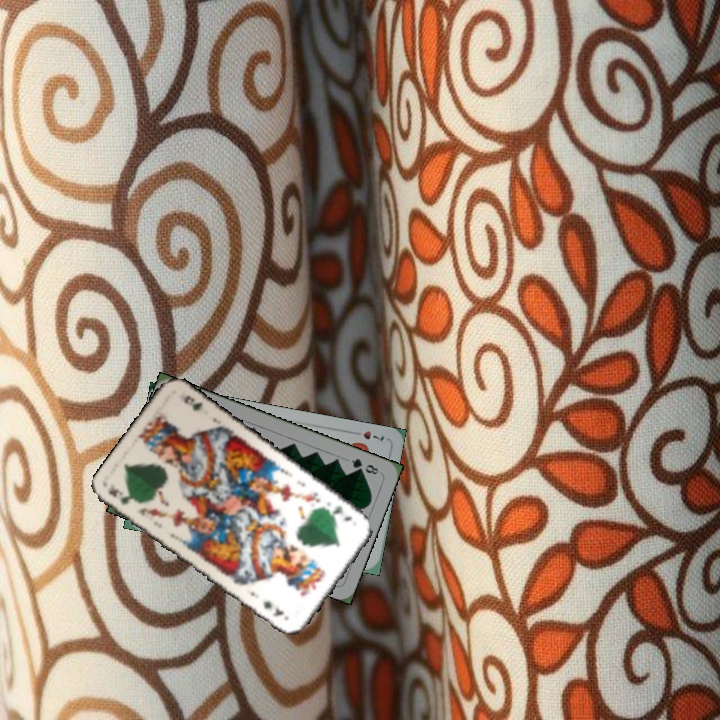G8: (348, 454, 383, 477)
GK: (104, 481, 134, 507), (328, 501, 354, 524)
H7: (348, 427, 387, 443)
